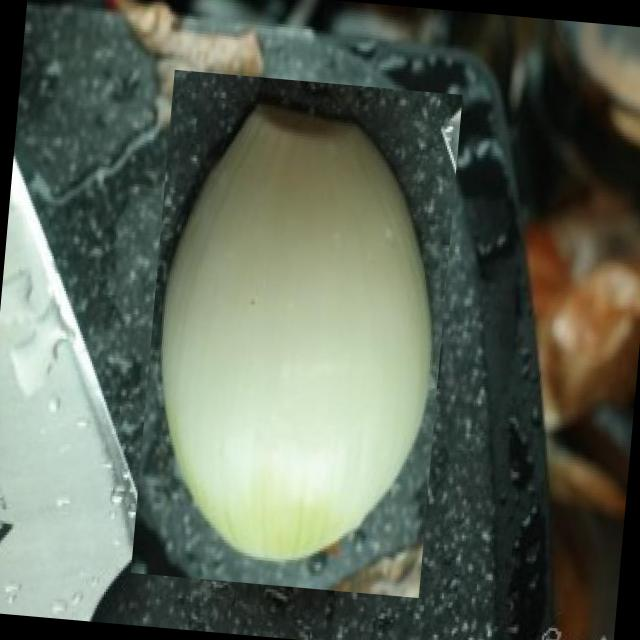Onion: (130, 68, 462, 598)
